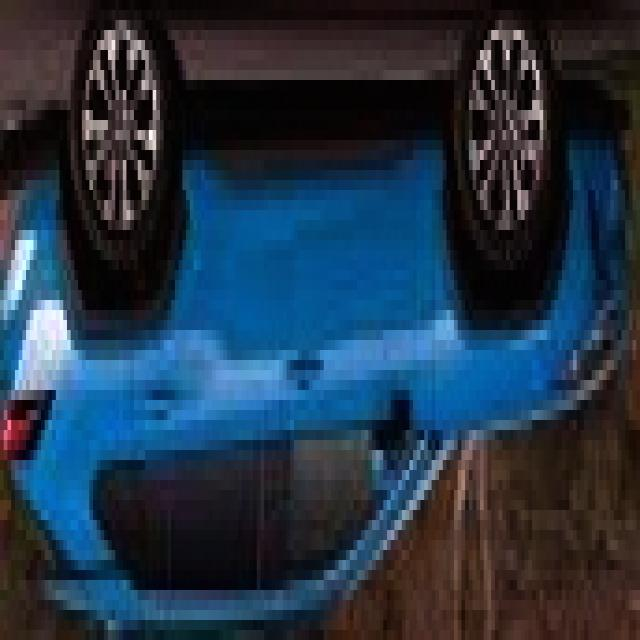blue: (11, 0, 640, 610)
